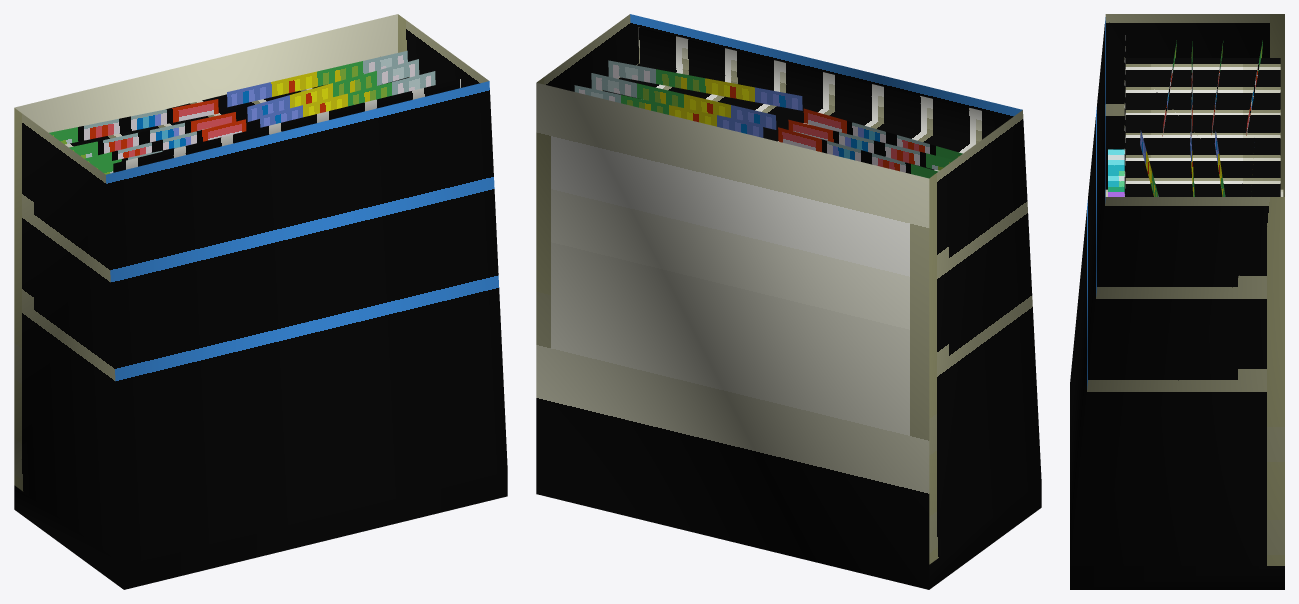
3 views of the same model, side by side, from view 1: azimuth 30°, elevation 25°; view 2: azimuth 150°, elevation 25°; view 3: azimuth 270°, elevation 25° (orthographic). The views are drawn at different scales.
Parts seen in each view (by area): view 1: 3401IMIG19_09; view 2: 3401IMIG19_09; view 3: 3401IMIG19_09.
Boxes of the visible parts, x1,y1,x2,y2 form: 3401IMIG19_09: (14, 14, 507, 589); 3401IMIG19_09: (536, 14, 1041, 589); 3401IMIG19_09: (1070, 14, 1284, 589).
Bounding box in the file's own units: 1.9 × 1.9 × 0.9424.
Materials: 4 (4 with a texture image).
